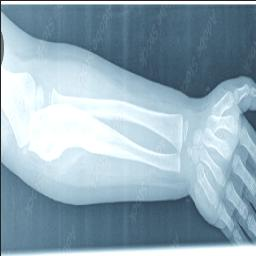cancer: (31, 113, 79, 161)
